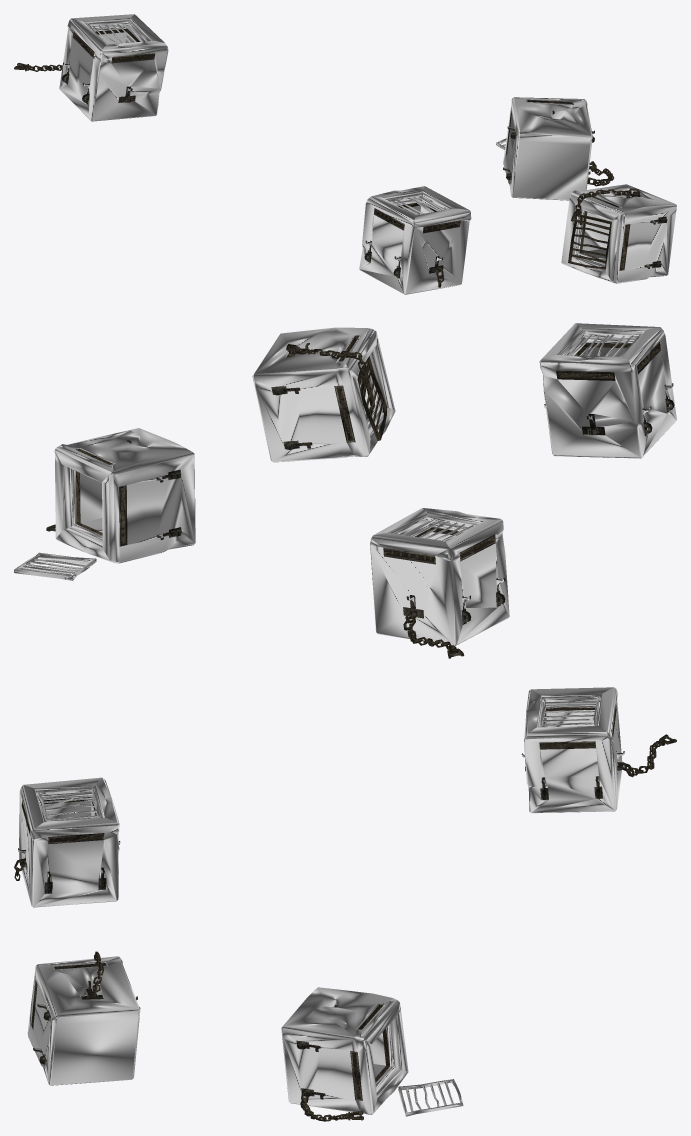
The picture shows the model from 3 angles, top to bottom: view 1: azimuth 30°, elevation 25°; view 2: azimuth 150°, elevation 25°; view 3: azimuth 270°, elevation 25°; orthographic projection. The views are drawn at different scales.
Visible parts, largest first — view 1: mesh0, mesh2, mesh3; view 2: mesh0, mesh2, mesh3; view 3: mesh0, mesh2, mesh3.
Boxes of the visible parts, box(x1,y1,x2,y2) form: mesh0: box(59, 14, 676, 294); mesh2: box(14, 28, 640, 287); mesh3: box(62, 31, 667, 278); mesh0: box(14, 323, 676, 645); mesh2: box(46, 335, 659, 658); mesh3: box(119, 342, 674, 624); mesh0: box(19, 687, 622, 1116); mesh2: box(14, 707, 676, 1121); mesh3: box(18, 704, 624, 1100).
Bounding box in the file's own units: 15.28 × 5.63 × 16.6.
